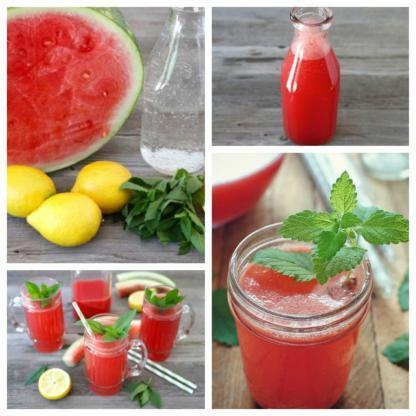lemon: (27, 192, 102, 248), (70, 160, 134, 214), (7, 164, 56, 218)
